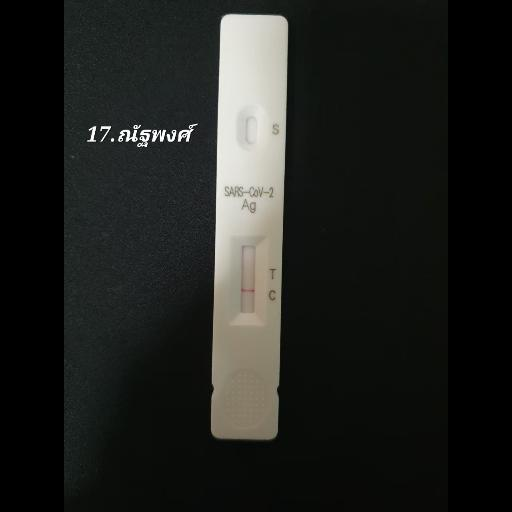Neg: (210, 14, 290, 441)
